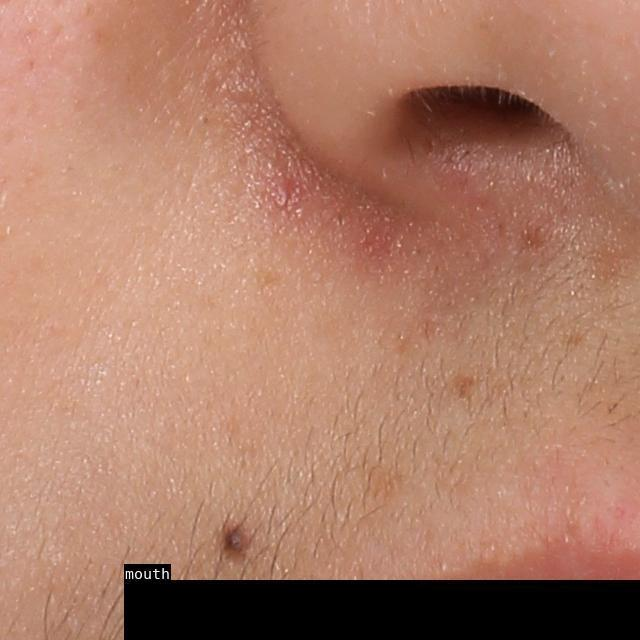nevus: (218, 518, 257, 563)
